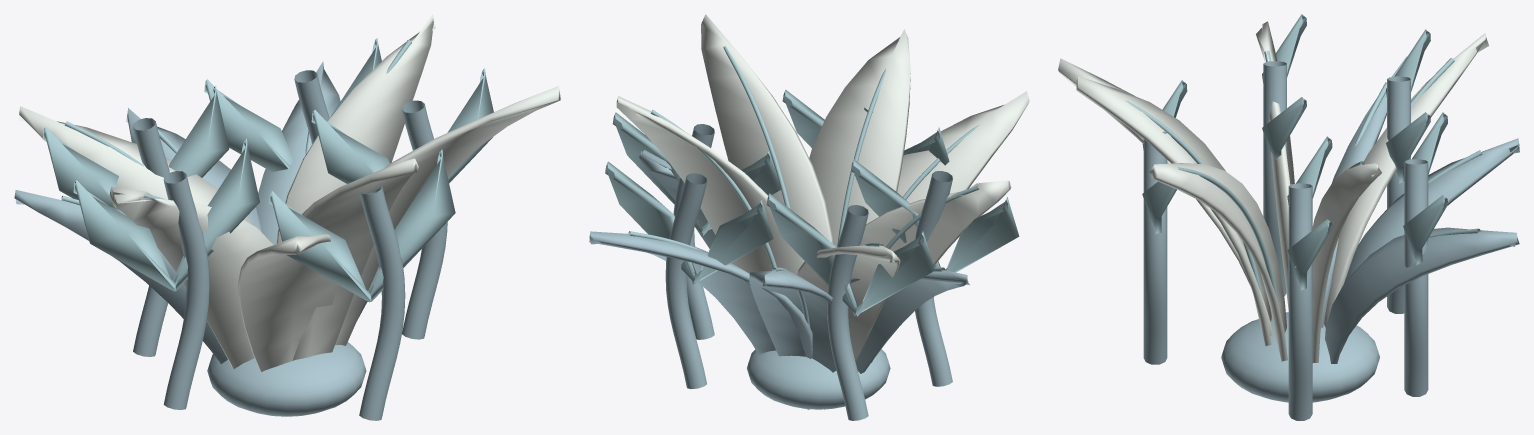
File: bio_mist_leaf_12_near.glb
3 views of the same model, side by side, from view 1: azimuth 30°, elevation 25°; view 2: azimuth 150°, elevation 25°; view 3: azimuth 270°, elevation 25° (orthographic). The views are drawn at different scales.
Visible parts, largest first — view 1: Cupped condensate leaf.007, Cupped condensate leaf.008, Cupped condensate leaf.004, Root rosette, Secondary fan lobe.008, Secondary fan lobe.004, Cupped condensate leaf.002, Cupped condensate leaf.005, Branching support.004, Branching support.002, Secondary fan lobe.002, Cupped condensate leaf.001 (+8 smaller); view 2: Cupped condensate leaf.002, Cupped condensate leaf.005, Cupped condensate leaf.008, Cupped condensate leaf.003, Cupped condensate leaf.007, Root rosette, Secondary fan lobe.006, Secondary fan lobe.002, Cupped condensate leaf.006, Branching support.001, Cupped condensate leaf.004, Branching support.003 (+13 smaller); view 3: Cupped condensate leaf.003, Root rosette, Cupped condensate leaf.005, Cupped condensate leaf.002, Branching support, Cupped condensate leaf.001, Branching support.003, Branching support.002, Cupped condensate leaf.006, Cupped condensate leaf.008, Branching support.004, Cupped condensate leaf.004 (+10 smaller).
Part boxes in pixels (bbox=[...]): Cupped condensate leaf.007: bbox=[238, 234, 337, 371]; Cupped condensate leaf.008: bbox=[276, 14, 435, 243]; Cupped condensate leaf.004: bbox=[109, 187, 273, 368]; Root rosette: bbox=[207, 342, 366, 416]; Secondary fan lobe.008: bbox=[73, 138, 259, 291]; Secondary fan lobe.004: bbox=[269, 149, 455, 302]; Cupped condensate leaf.002: bbox=[292, 158, 418, 360]; Cupped condensate leaf.005: bbox=[335, 86, 560, 345]; Branching support.004: bbox=[163, 171, 209, 409]; Branching support.002: bbox=[359, 185, 405, 420]; Secondary fan lobe.002: bbox=[42, 86, 229, 207]; Cupped condensate leaf.001: bbox=[19, 106, 251, 224]; Cupped condensate leaf.002: bbox=[809, 29, 910, 247]; Cupped condensate leaf.005: bbox=[701, 14, 833, 244]; Cupped condensate leaf.008: bbox=[616, 96, 804, 274]; Cupped condensate leaf.003: bbox=[589, 231, 812, 358]; Cupped condensate leaf.007: bbox=[897, 91, 1029, 203]; Root rosette: bbox=[747, 349, 890, 409]; Secondary fan lobe.006: bbox=[605, 161, 773, 284]; Secondary fan lobe.002: bbox=[766, 193, 934, 316]; Cupped condensate leaf.006: bbox=[749, 270, 836, 409]; Branching support.001: bbox=[827, 205, 868, 420]; Cupped condensate leaf.004: bbox=[860, 180, 1011, 362]; Branching support.003: bbox=[665, 173, 707, 389]; Cupped condensate leaf.003: bbox=[1325, 227, 1519, 363]; Root rosette: bbox=[1221, 312, 1379, 402]; Cupped condensate leaf.005: bbox=[1149, 163, 1287, 361]; Cupped condensate leaf.002: bbox=[1076, 76, 1271, 346]; Branching support: bbox=[1288, 183, 1312, 420]; Cupped condensate leaf.001: bbox=[1324, 33, 1488, 327]; Branching support.003: bbox=[1404, 159, 1428, 396]; Branching support.002: bbox=[1143, 130, 1167, 364]; Cupped condensate leaf.006: bbox=[1344, 138, 1519, 283]; Cupped condensate leaf.008: bbox=[1312, 163, 1381, 362]; Branching support.004: bbox=[1263, 61, 1286, 296]; Cupped condensate leaf.004: bbox=[1256, 21, 1294, 308].
Bounding box in the file's own units: 1.88 × 1.34 × 1.74.
